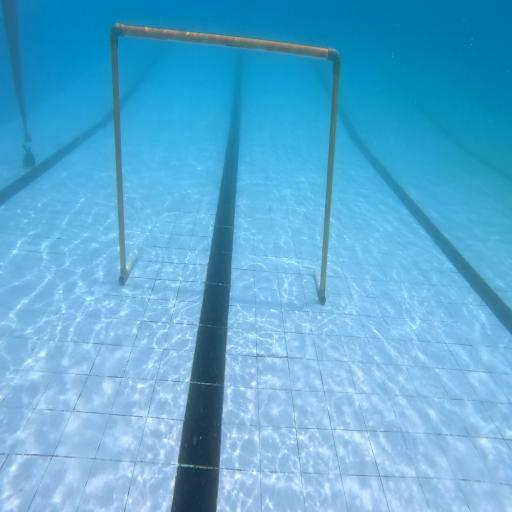gate: (110, 22, 340, 306)
